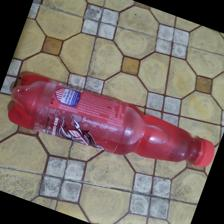Sting: (5, 74, 217, 168)
